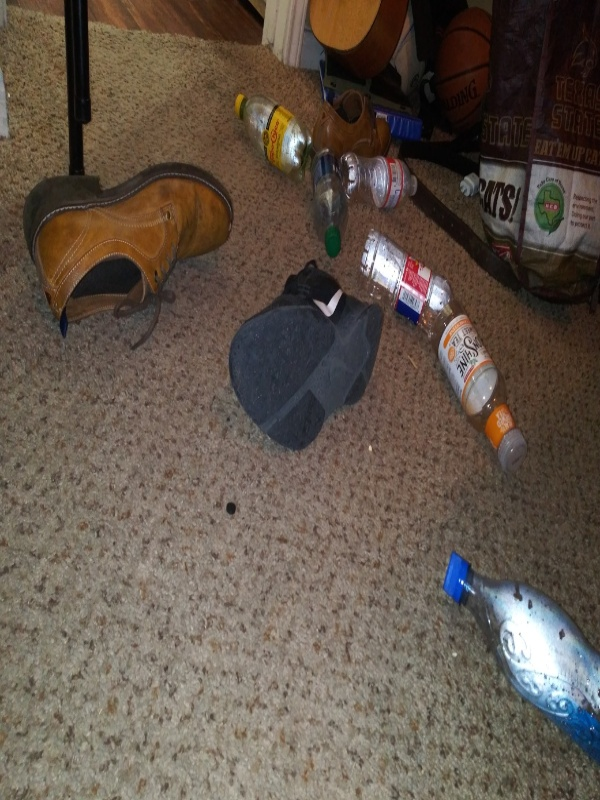bottle: (438, 547, 600, 779), (417, 297, 532, 472), (352, 225, 481, 338), (227, 85, 320, 185), (334, 150, 426, 212), (306, 142, 350, 259)
